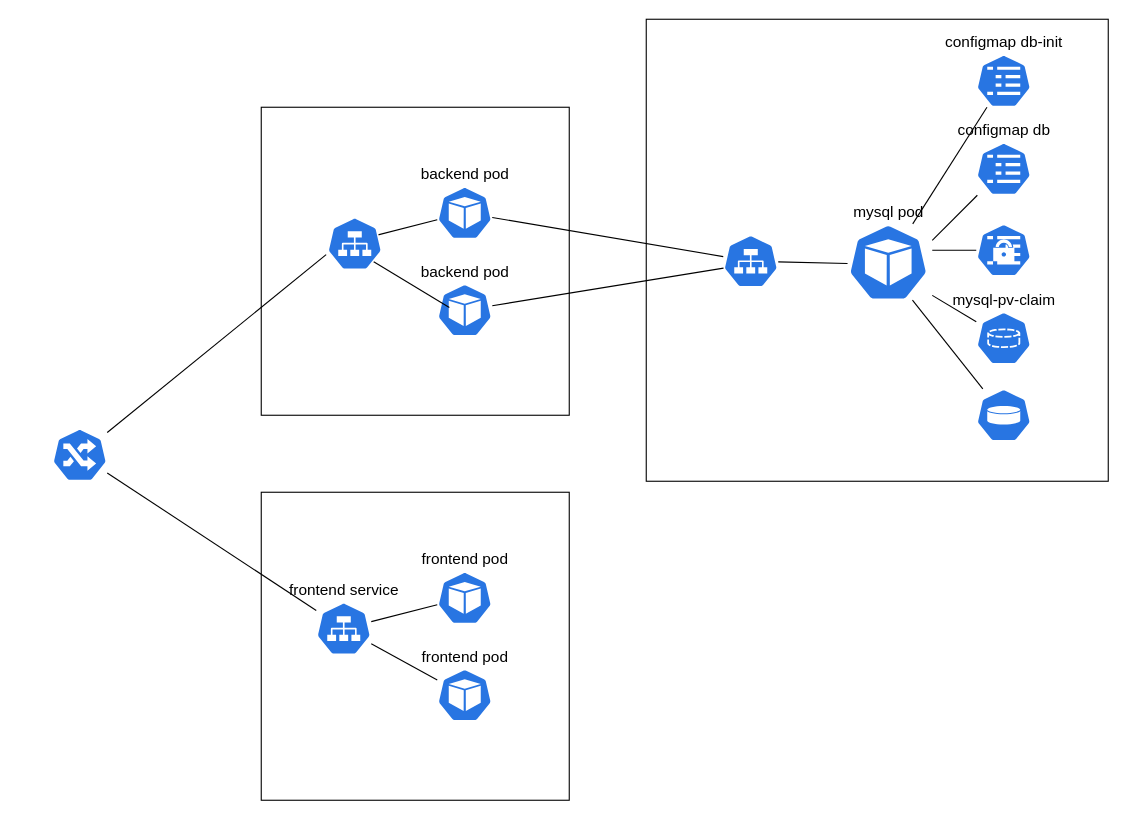
Image size: 1128x820. Some labels were removed from this diagram. Each missing label, with the centre of its shape:
backend service: the point at 354,243
easyclaim ingress: the point at 79,454
mysql secret: the point at 1003,250
mysql-pv-lolume: the point at 1003,415
mysql-service: the point at 750,261
